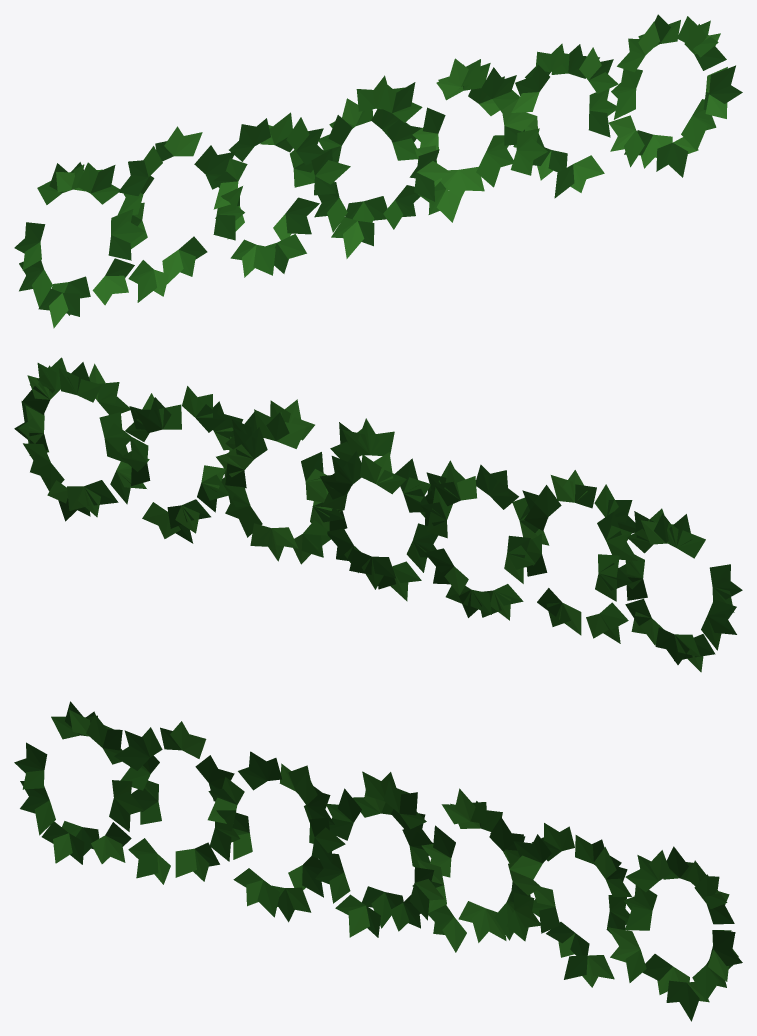
The picture shows the model from 3 angles, top to bottom: view 1: azimuth 30°, elevation 25°; view 2: azimuth 150°, elevation 25°; view 3: azimuth 330°, elevation 25°; orthographic projection.
Visible parts, largest first — view 1: r2c3_l00; view 2: r2c3_l00; view 3: r2c3_l00.
Part boxes in pixels (x1,y1,x2,y2): r2c3_l00: (14, 14, 742, 328); r2c3_l00: (14, 357, 742, 672); r2c3_l00: (14, 701, 742, 1021).
Bounding box in the file's own units: 1.83 × 0.4262 × 0.0732.
